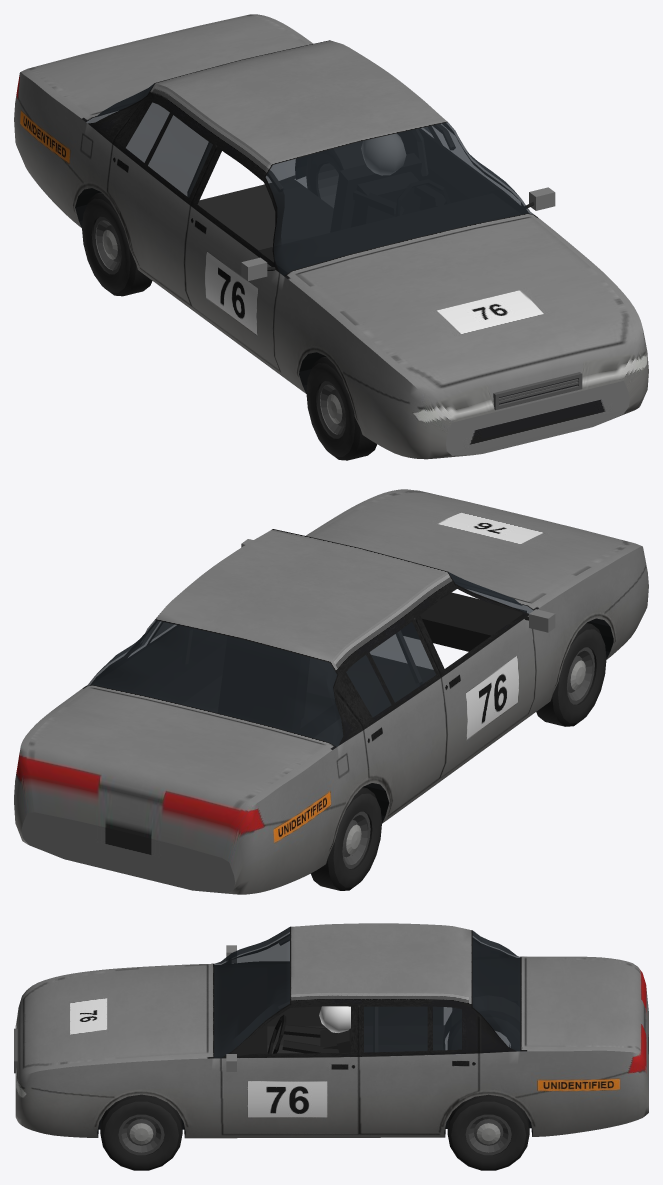
The picture shows the model from 3 angles, top to bottom: view 1: azimuth 30°, elevation 25°; view 2: azimuth 150°, elevation 25°; view 3: azimuth 270°, elevation 25°; orthographic projection. The views are drawn at different scales.
Visible parts, largest first — view 1: body, wheel_fr, wheel_rr, wheel_rl; view 2: body, wheel_rr, wheel_fr; view 3: body, wheel_fl, wheel_rl, wheel_rr.
Boxes of the visible parts, x1,y1,x2,y2 form: body: (14, 14, 648, 459); wheel_fr: (306, 356, 376, 460); wheel_rr: (82, 192, 152, 296); wheel_rl: (306, 149, 343, 207); body: (14, 489, 648, 894); wheel_rr: (311, 787, 381, 890); wheel_fr: (536, 623, 606, 726); body: (14, 923, 648, 1138); wheel_fl: (100, 1094, 182, 1170); wheel_rl: (447, 1094, 529, 1170); wheel_rr: (448, 1010, 519, 1050).
Size of the model in its own units: 2.07 by 1.41 by 4.79.
Materials: 3 (2 with a texture image).
